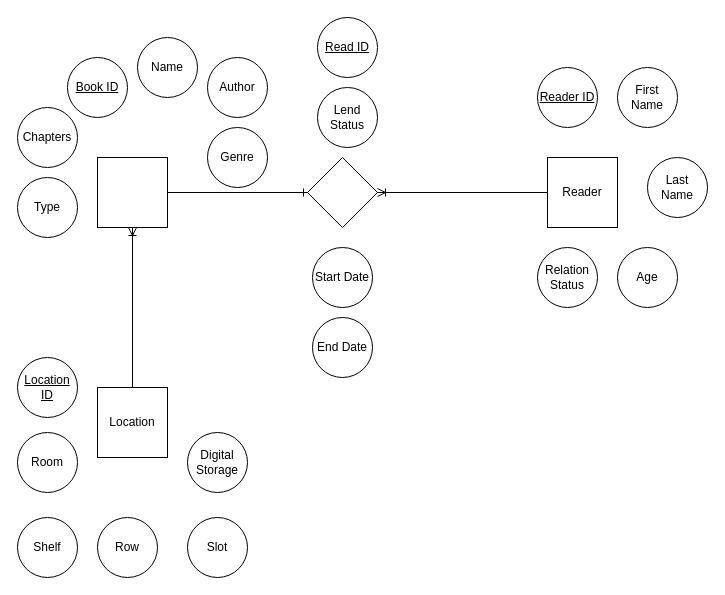
Image size: 725x595. Some labels were removed from this diagram. The centre of each missing label's shape, as x and y in pixels:
"Books" goes at [132,192].
"read" goes at [342,192].
